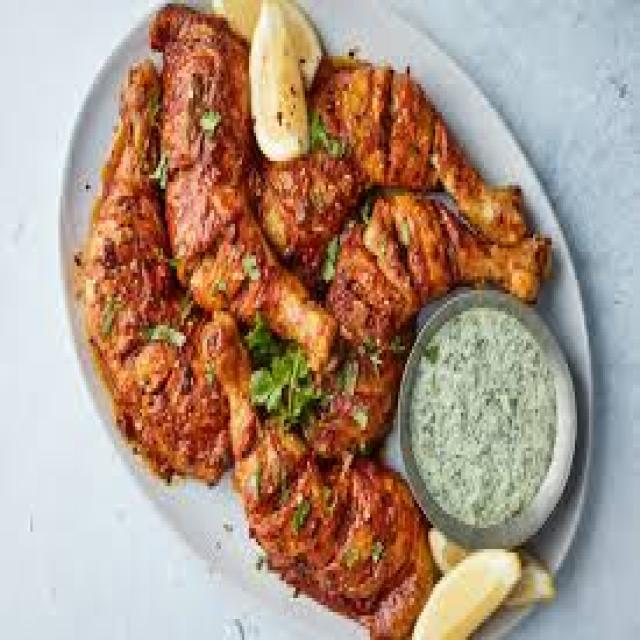Frango: (77, 10, 565, 640)
